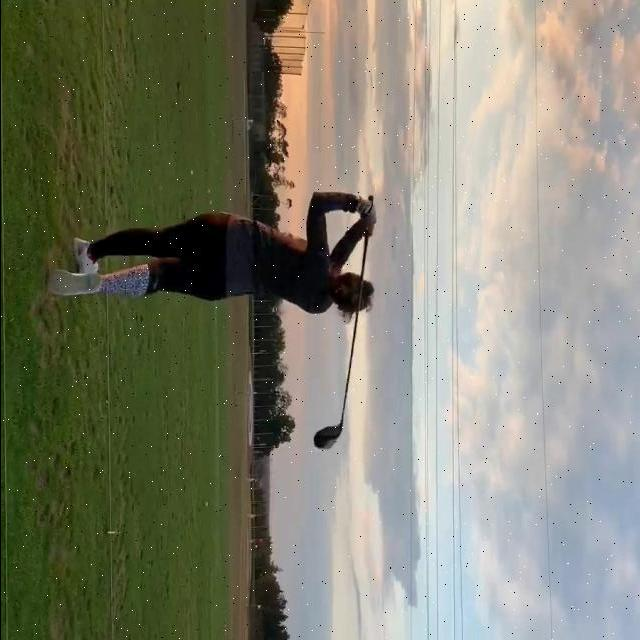golf club-handle: (309, 195, 374, 455)
golf club-head: (312, 426, 340, 450)
